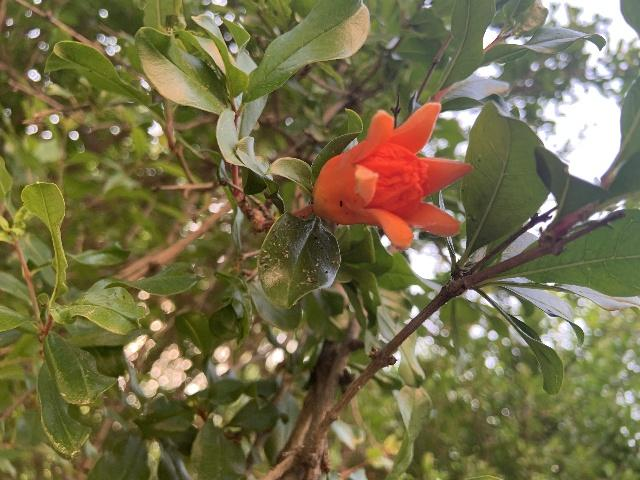flower: (313, 102, 473, 251)
